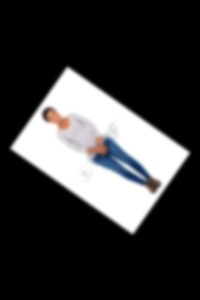arm: (78, 98, 106, 134), (50, 137, 86, 162)
chest: (64, 123, 95, 147)
face: (43, 109, 63, 121)
foot: (140, 181, 159, 194), (149, 174, 161, 187)
hand: (93, 143, 106, 154)
leg: (107, 123, 154, 176), (88, 156, 138, 190)
neck: (58, 118, 68, 126)
